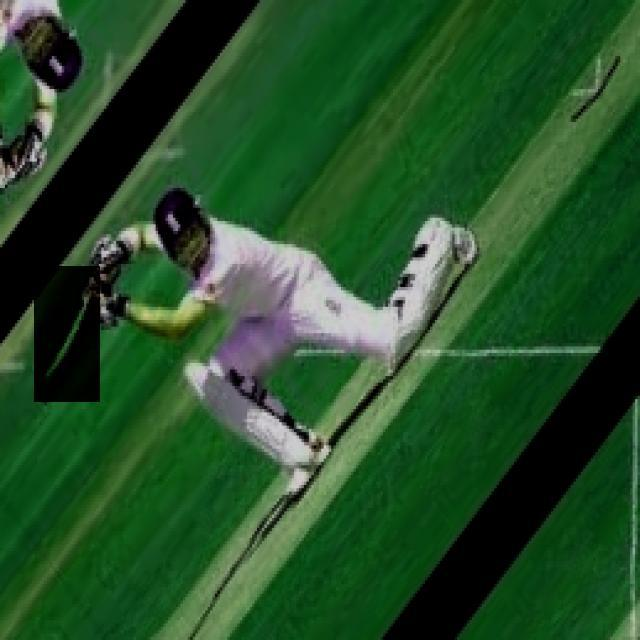bat: (35, 268, 97, 400)
